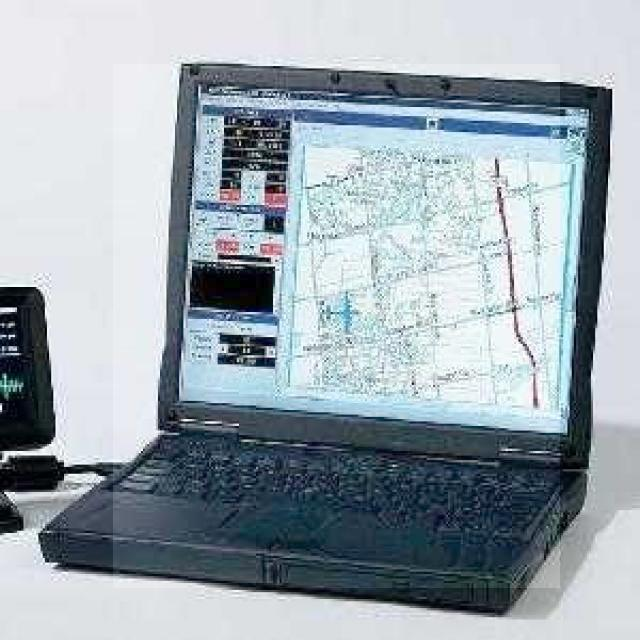-keyboard-: (113, 64, 560, 588)
